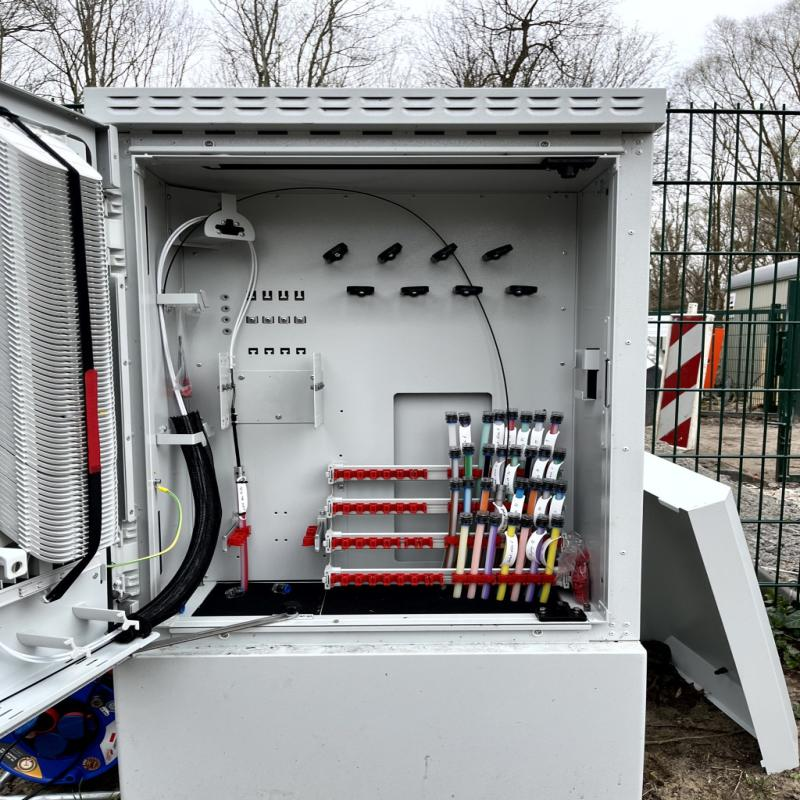NT-Gehause: (0, 79, 665, 793)
Spleiskassetten: (0, 103, 125, 579)
